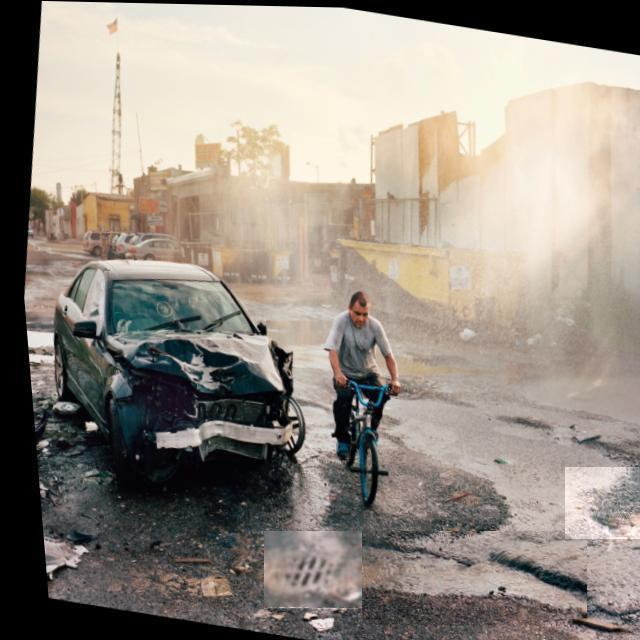Manhole: (264, 532, 362, 610)
Pothole: (362, 531, 587, 625), (565, 468, 640, 540)
